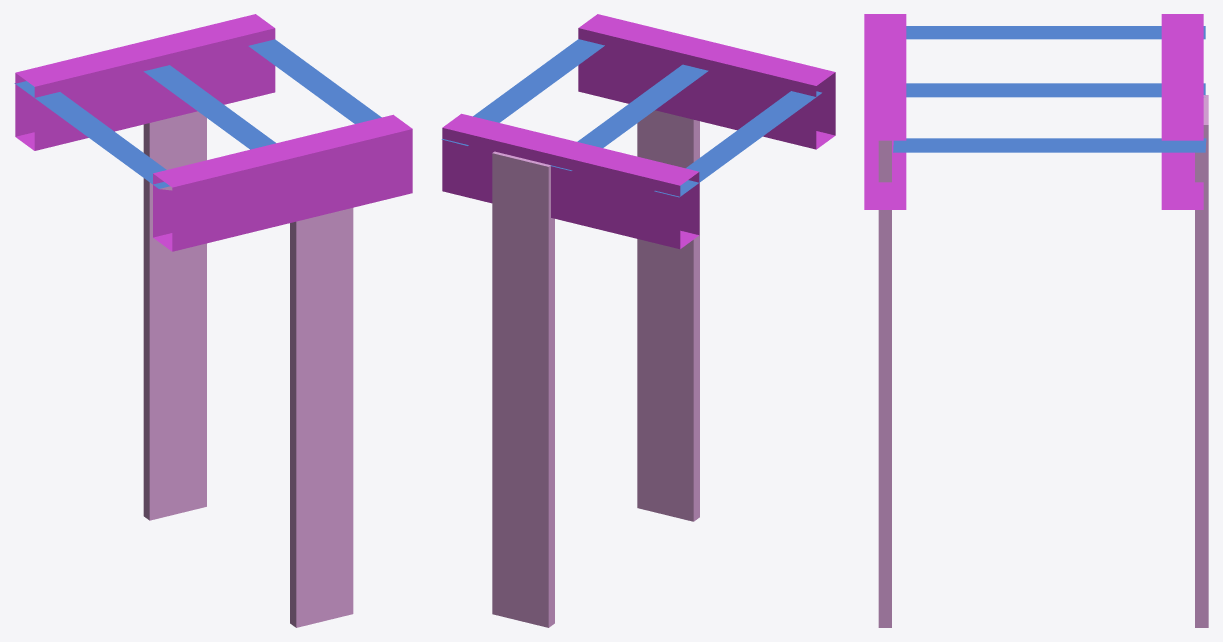
File: Bahn 0.6_0.fbx
3 views of the same model, side by side, from view 1: azimuth 30°, elevation 25°; view 2: azimuth 150°, elevation 25°; view 3: azimuth 270°, elevation 25° (orthographic). The views are drawn at different scales.
Visible parts, largest first — view 1: Cube.005; view 2: Cube.005; view 3: Cube.005.
Boxes of the visible parts, x1,y1,x2,y2 form: Cube.005: [14, 14, 412, 627]; Cube.005: [441, 14, 835, 627]; Cube.005: [864, 14, 1208, 627].
Size of the model in its own units: 120 by 227 by 138.
